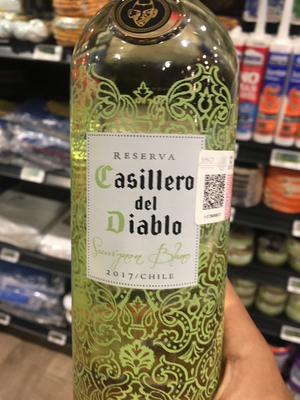casillero del diablo sauvignon blanc: (65, 6, 240, 400)
